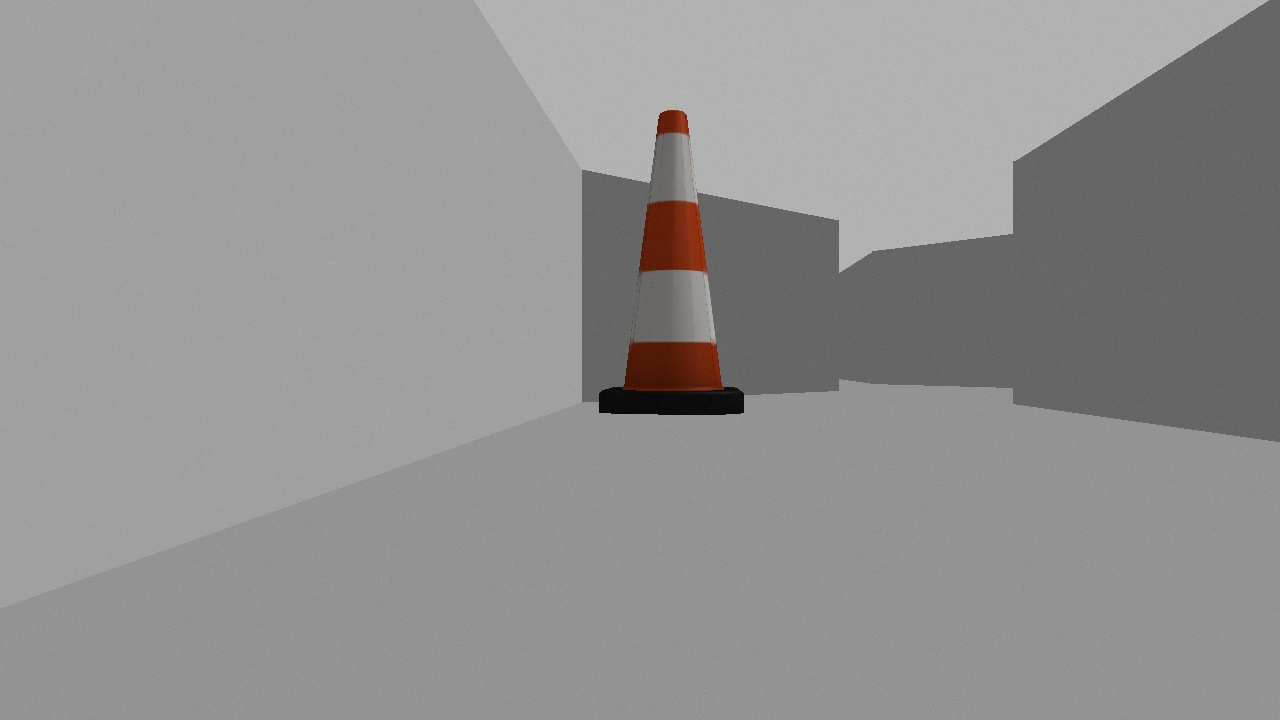barricade: (598, 110, 744, 417)
